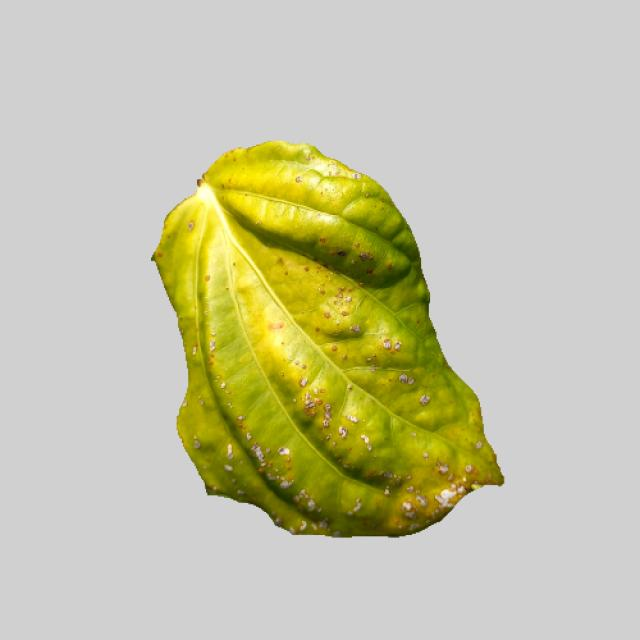yellow-mottle-virus: (143, 152, 498, 532)
